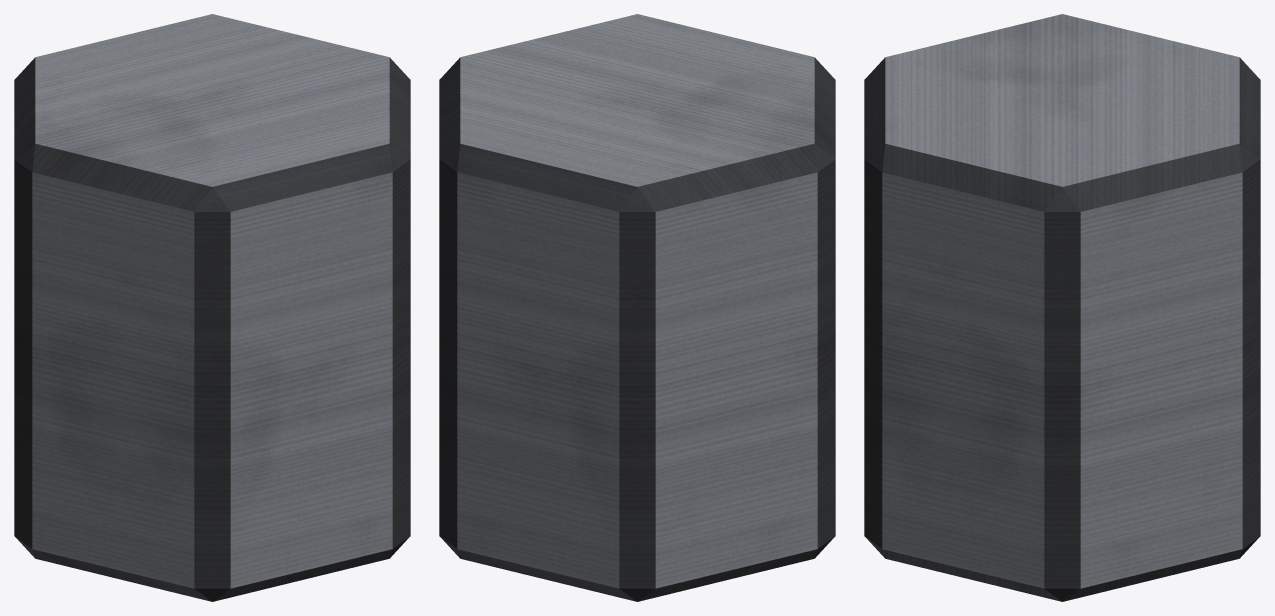
The model's file is R4B_HexColumn_LOD1.glb.
The picture shows the model from 3 angles, left to right: view 1: azimuth 30°, elevation 25°; view 2: azimuth 150°, elevation 25°; view 3: azimuth 270°, elevation 25°; orthographic projection.
Visible parts, largest first — view 1: R4B_HexColumn_LOD1; view 2: R4B_HexColumn_LOD1; view 3: R4B_HexColumn_LOD1.
Boxes of the visible parts, box(x1,y1,x2,y2) form: R4B_HexColumn_LOD1: box(14, 14, 410, 601); R4B_HexColumn_LOD1: box(439, 14, 835, 601); R4B_HexColumn_LOD1: box(864, 14, 1260, 601).
Size of the model in its own units: 0.496 by 0.52 by 0.4503.
Materials: 2 (2 with a texture image).
